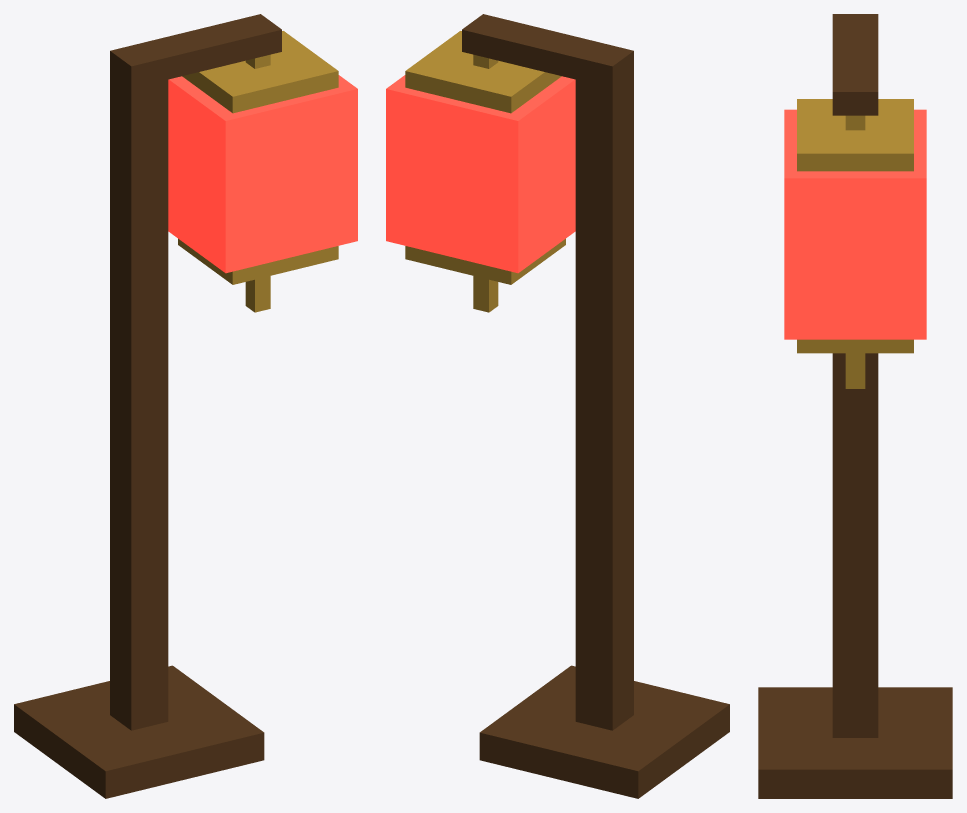
The model's file is ncb-garden-lamp-market.glb.
3 views of the same model, side by side, from view 1: azimuth 30°, elevation 25°; view 2: azimuth 150°, elevation 25°; view 3: azimuth 270°, elevation 25° (orthographic). The views are drawn at different scales.
Parts seen in each view (by area): view 1: box-prop; view 2: box-prop; view 3: box-prop.
Boxes of the visible parts, <box> form: box-prop: <box>14,14,357,798</box>; box-prop: <box>386,14,729,798</box>; box-prop: <box>758,14,952,798</box>.
Bounding box in the file's own units: 1 × 2.5 × 0.6.
